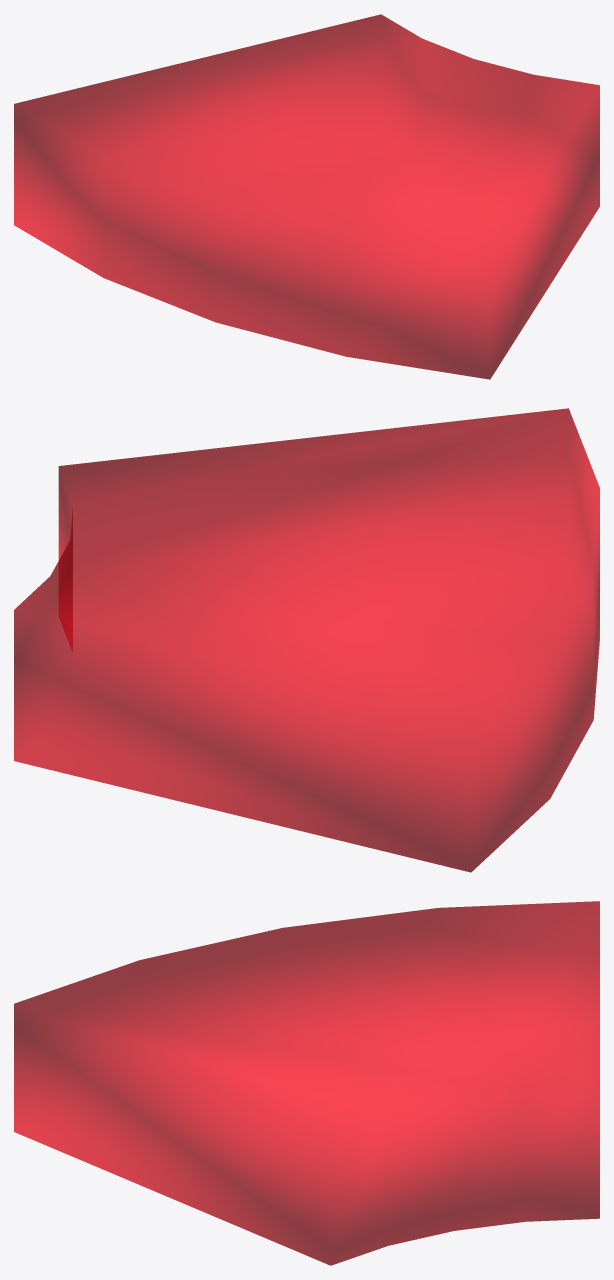
Rendered from platformRed.fbx.
3 renders of one model, top to bottom at view 1: azimuth 30°, elevation 25°; view 2: azimuth 150°, elevation 25°; view 3: azimuth 270°, elevation 25°, orthographic. The views are drawn at different scales.
Parts seen in each view (by area): view 1: Circle.001; view 2: Circle.001; view 3: Circle.001.
Part boxes in pixels (box(x1,y1,x2,y2)): Circle.001: box(14, 14, 599, 379); Circle.001: box(14, 408, 599, 872); Circle.001: box(14, 901, 599, 1265).
Size of the model in its own units: 67.52 by 17.07 by 70.71.
